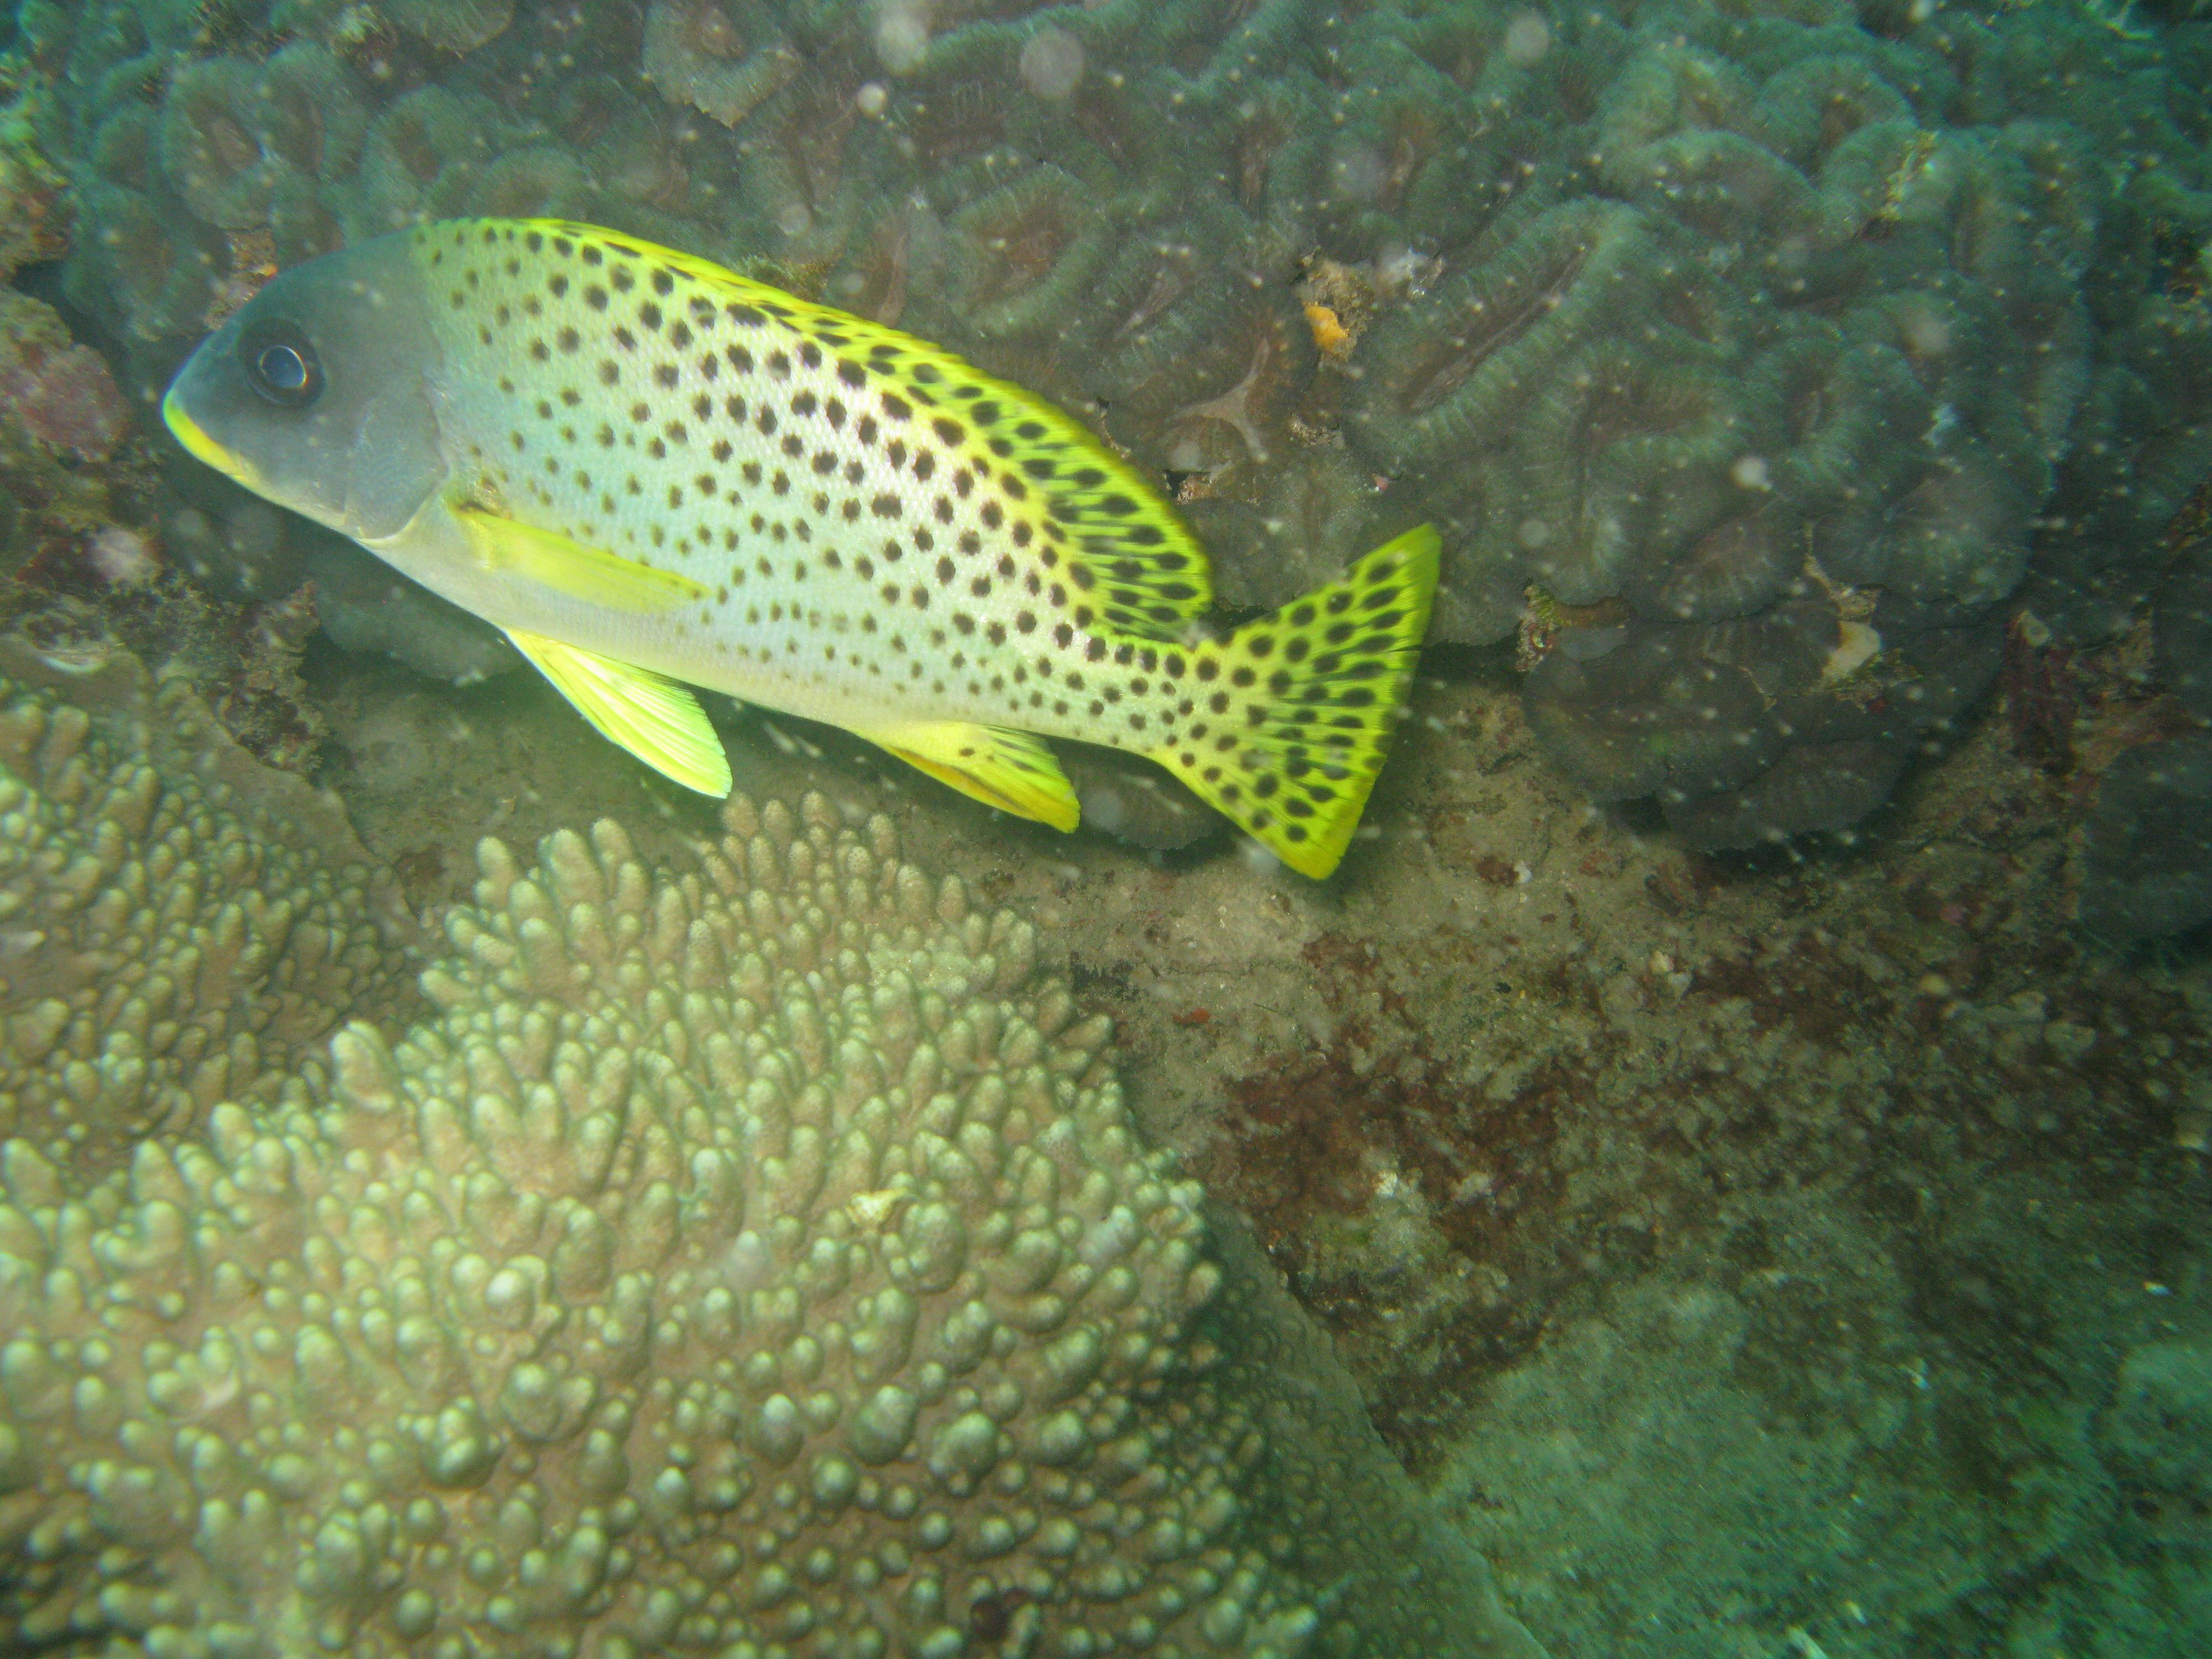Fish: (134, 197, 1440, 873)
